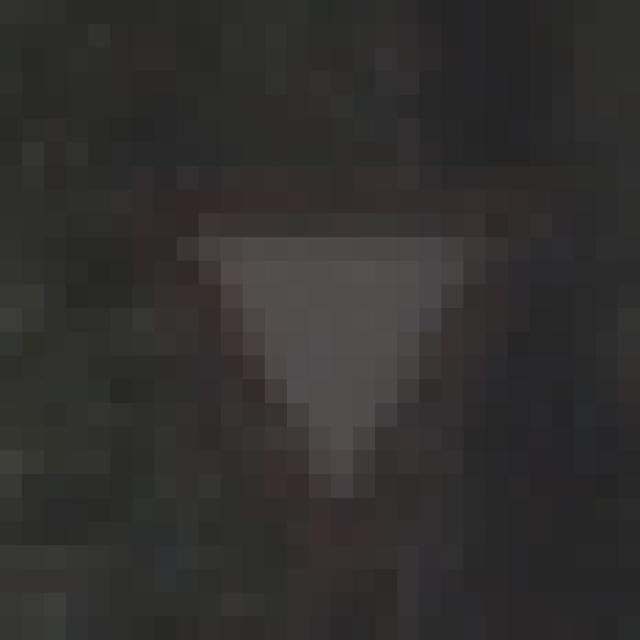Give Way: (134, 119, 531, 499)
